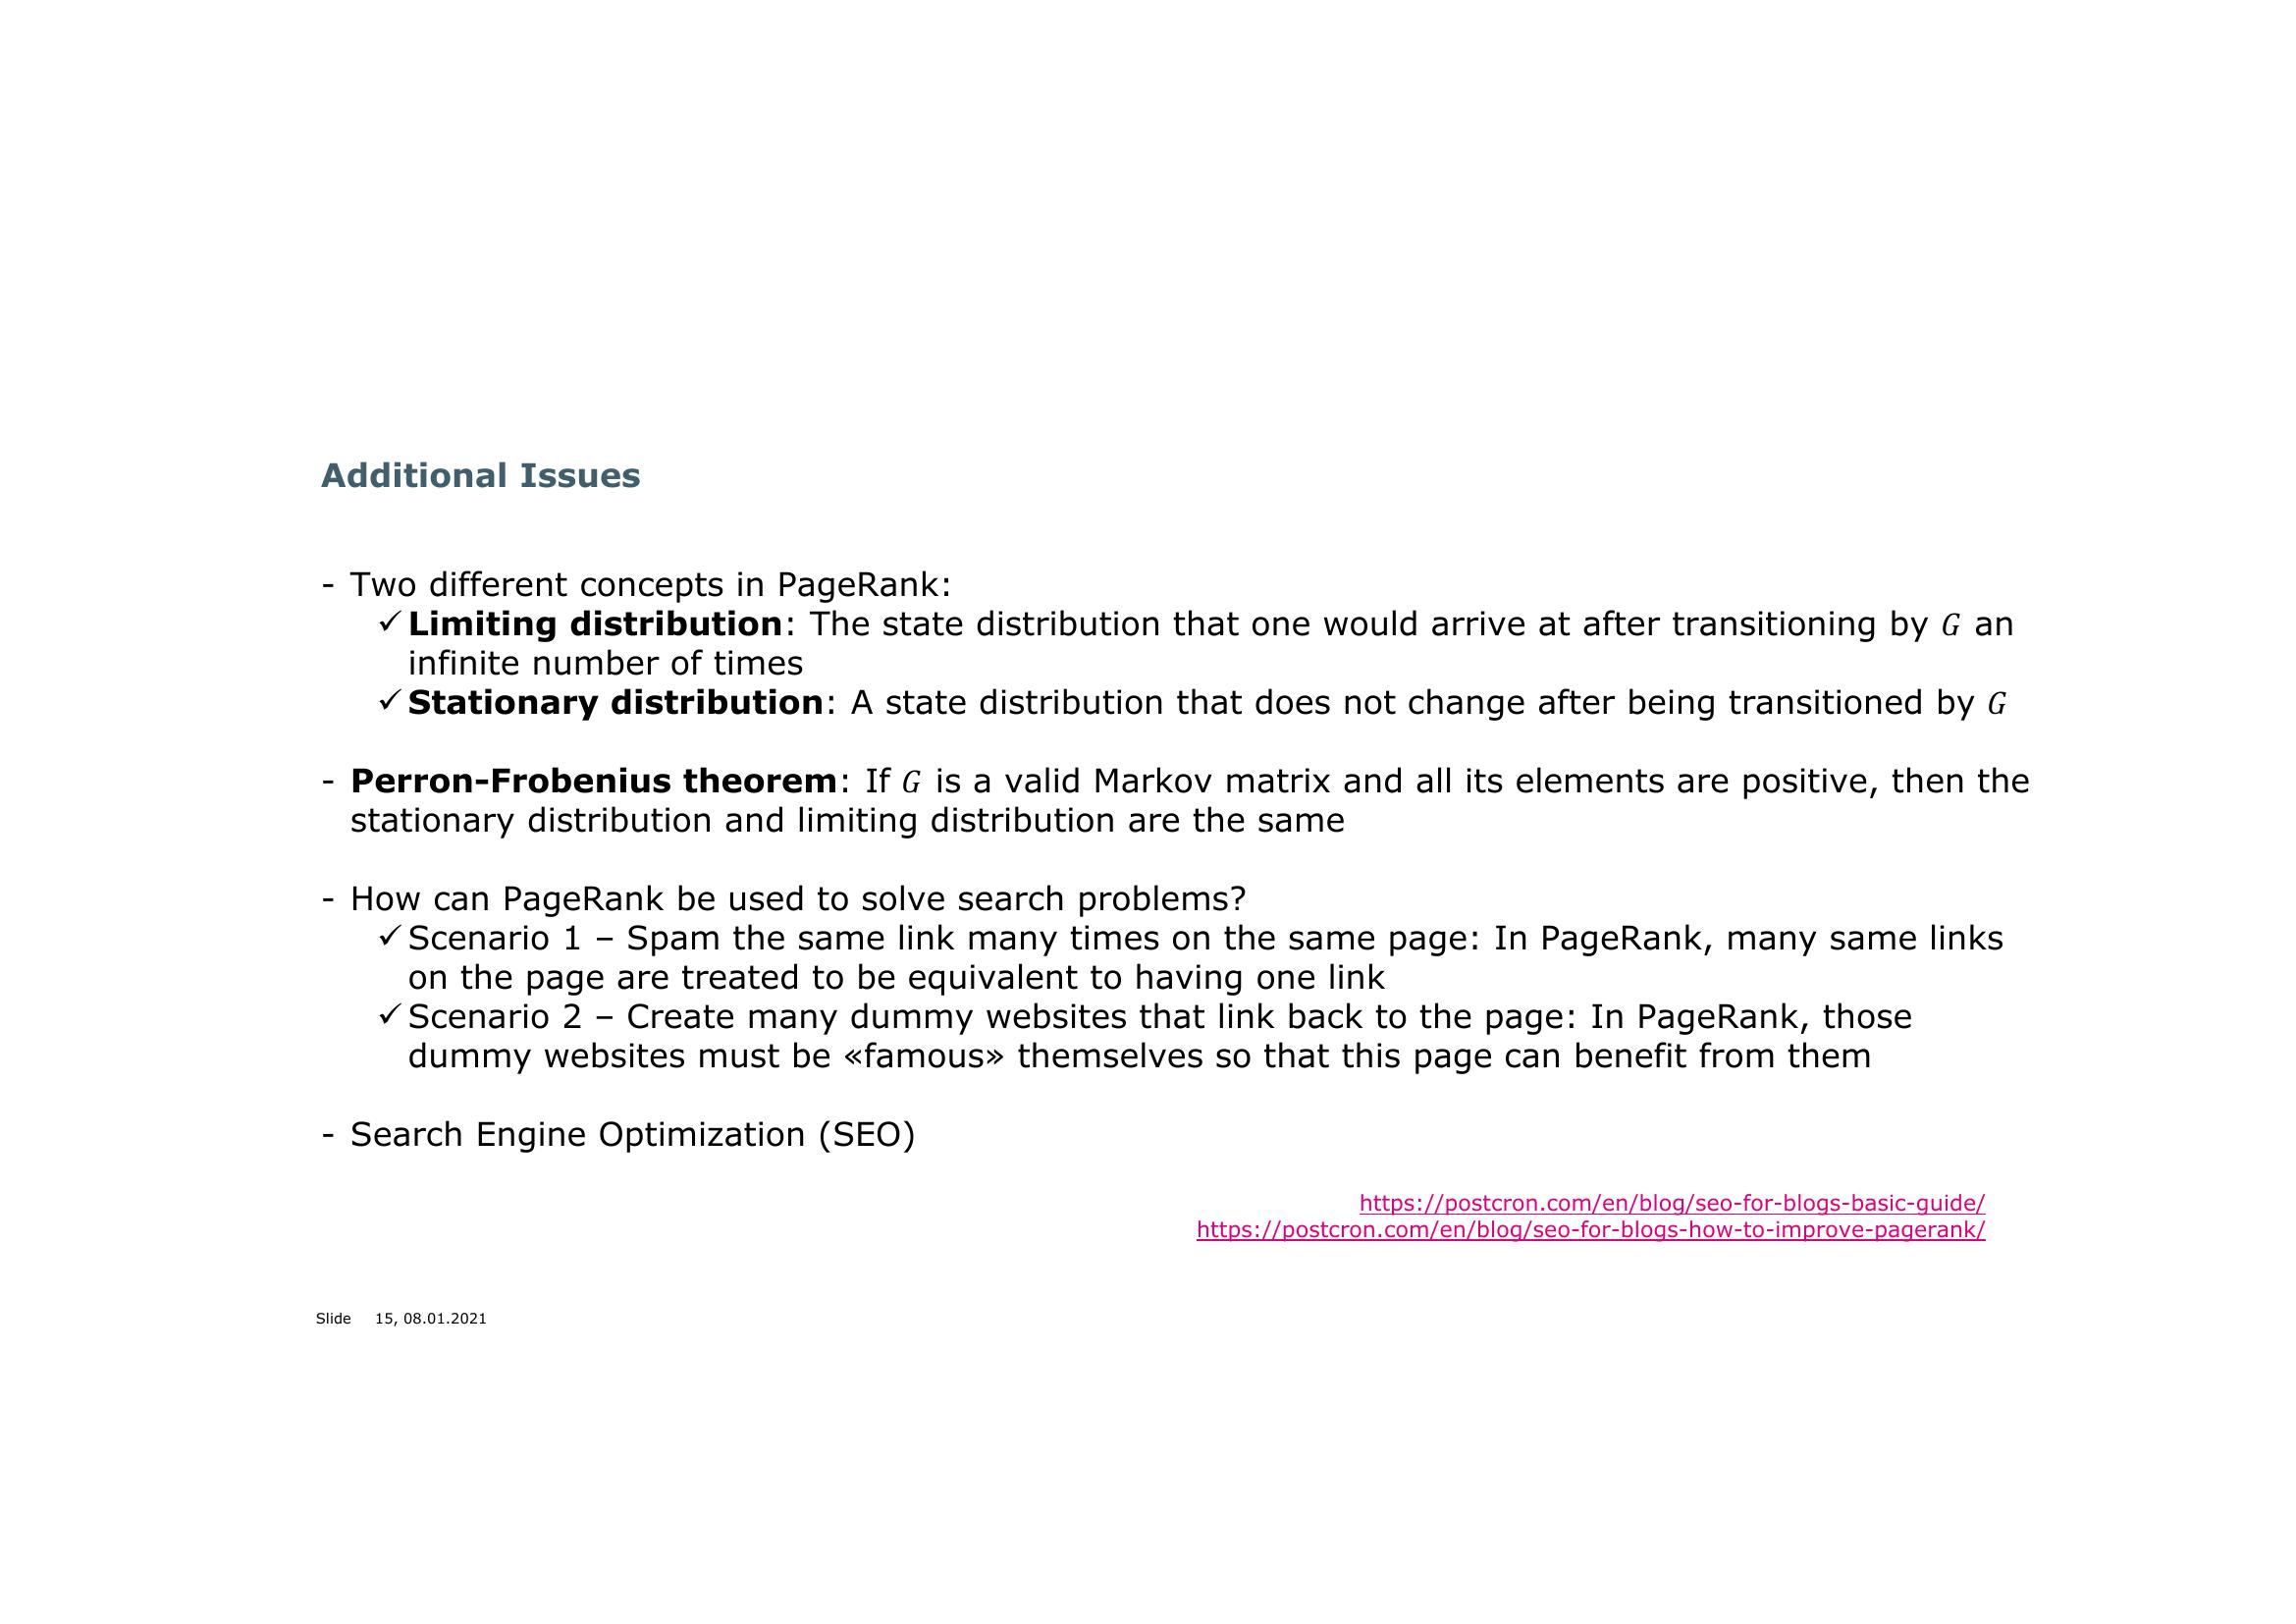Title: (297, 432, 650, 515)
